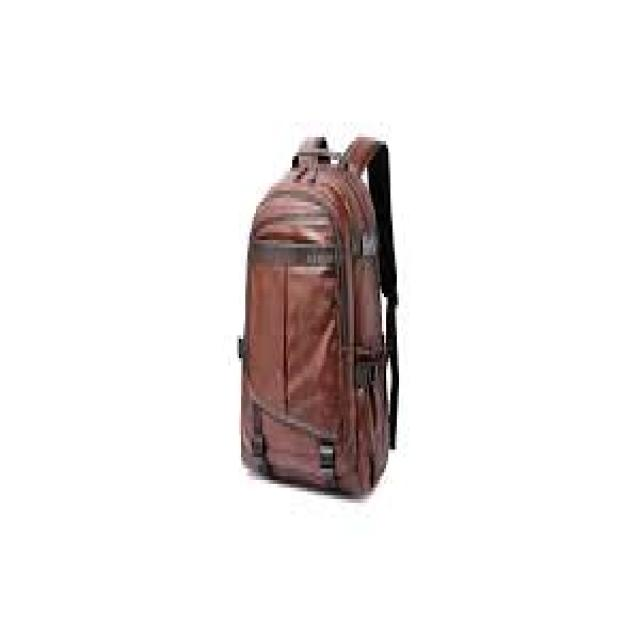backpack: (238, 135, 400, 497)
